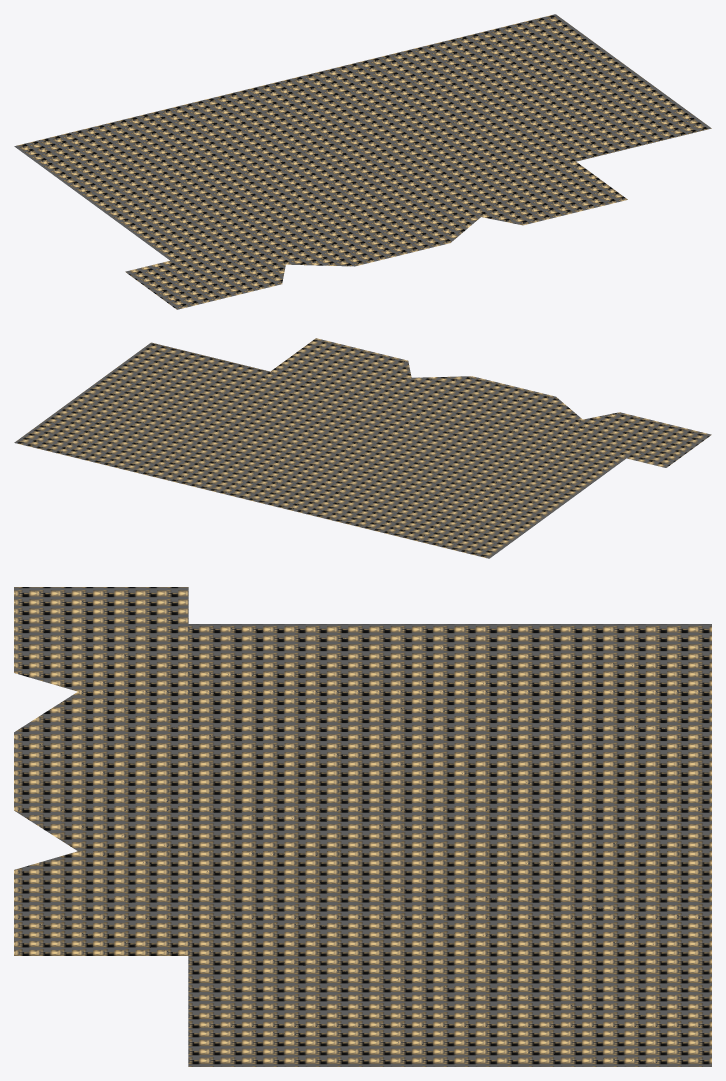
Rendered from Floor.DAE.
The picture shows the model from 3 angles, top to bottom: view 1: azimuth 30°, elevation 25°; view 2: azimuth 150°, elevation 25°; view 3: azimuth 270°, elevation 25°; orthographic projection. The views are drawn at different scales.
Parts seen in each view (by area): view 1: Floor; view 2: Floor; view 3: Floor.
Boxes of the visible parts, bbox=[...] form: Floor: bbox=[14, 14, 711, 309]; Floor: bbox=[14, 338, 711, 558]; Floor: bbox=[14, 587, 711, 1066].
Bounding box in the file's own units: 1282 × 788 × 0.
Materials: 1 (1 with a texture image).
